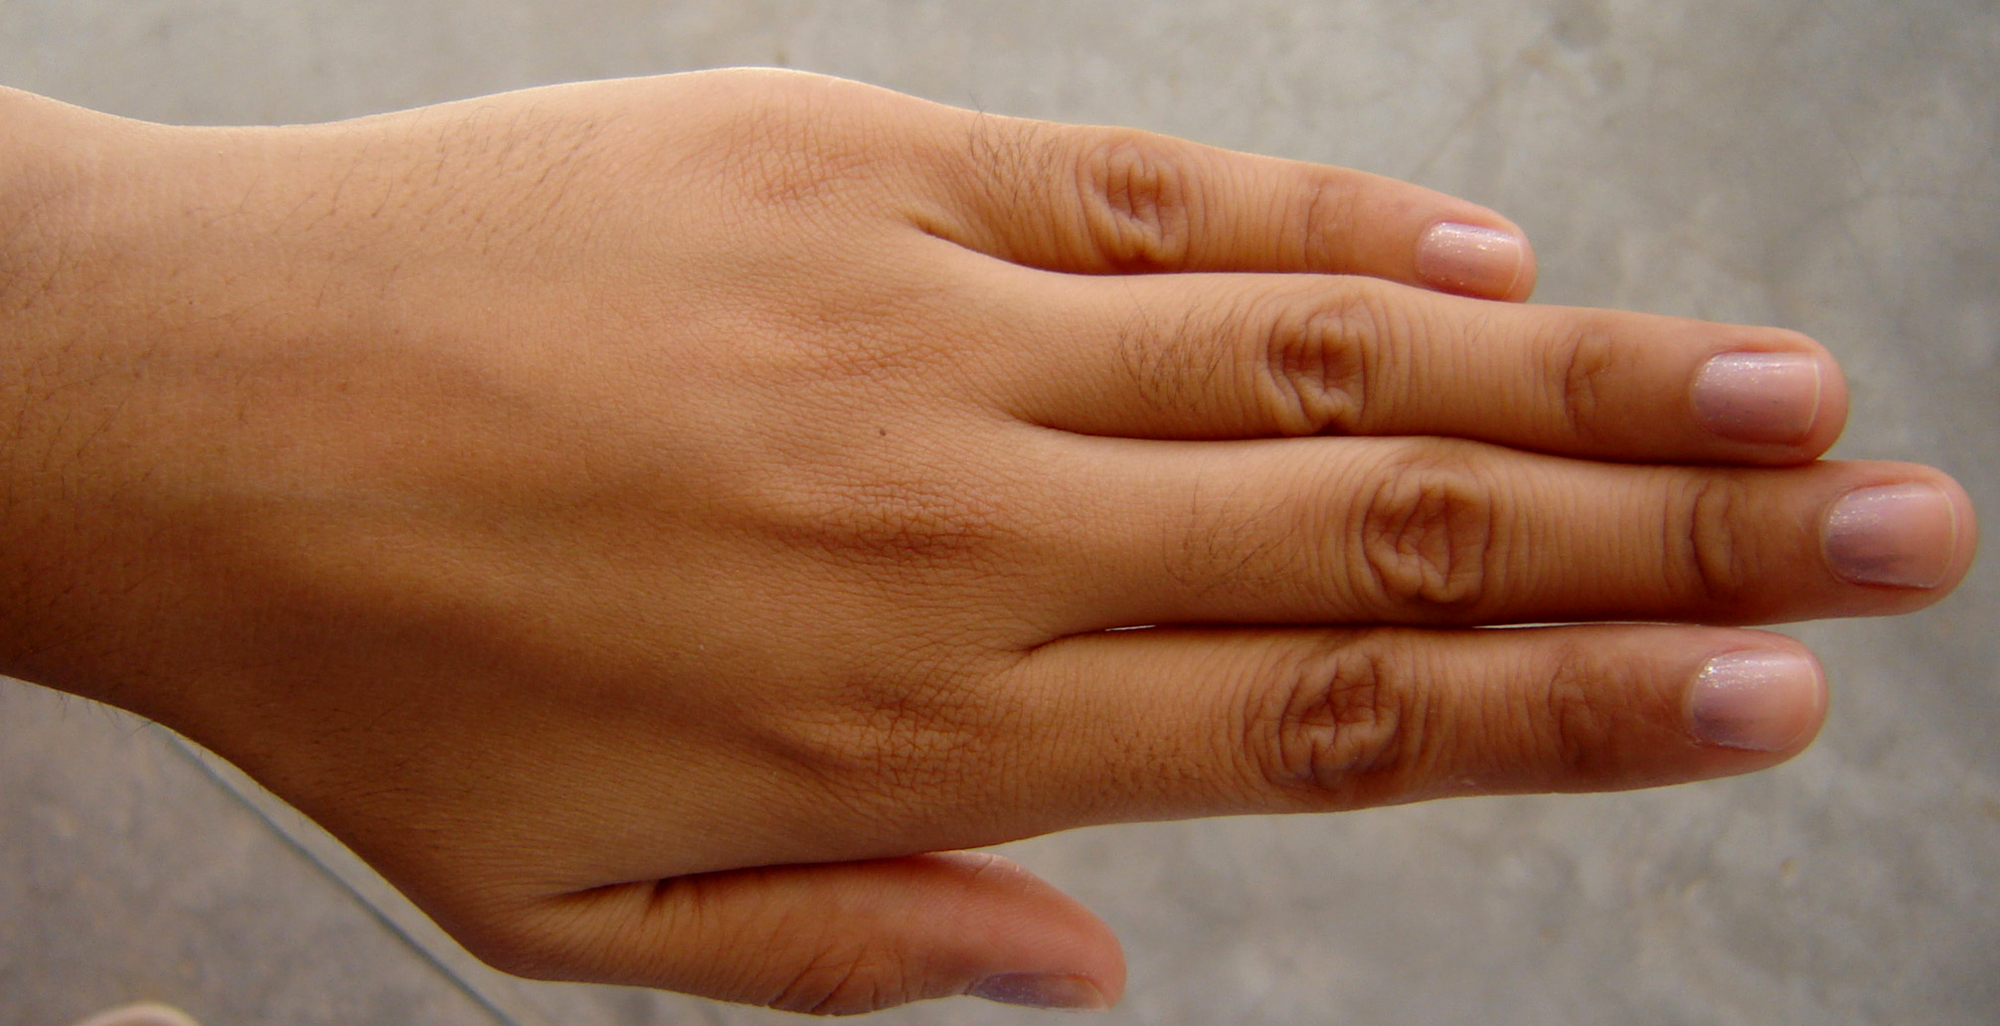finger: (988, 599, 1836, 841), (995, 421, 1973, 626), (990, 272, 1868, 467), (930, 124, 1543, 288)
